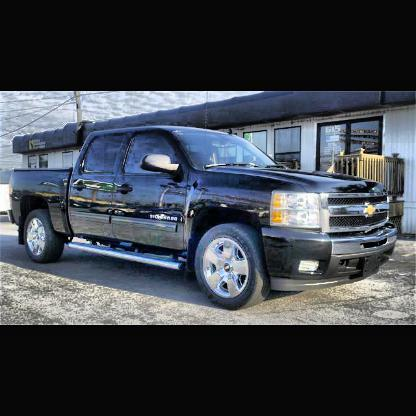Chevrolet Silverado 1500 Hybrid Crew Cab 2012: (8, 125, 401, 312)
